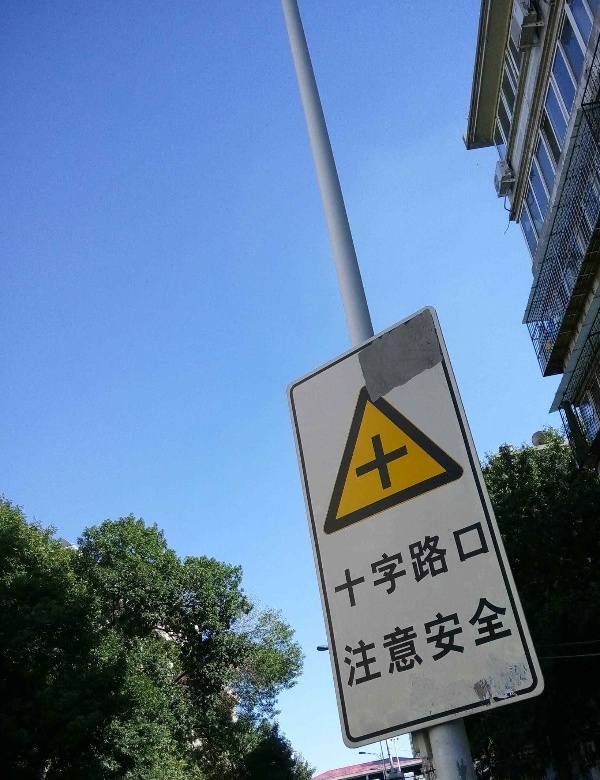text: (337, 513, 352, 614), (353, 513, 368, 614), (369, 513, 384, 614), (385, 513, 400, 614), (401, 513, 416, 614), (417, 513, 432, 614), (433, 513, 448, 614), (449, 513, 464, 614), (465, 513, 480, 614), (481, 513, 496, 614), (337, 591, 352, 688), (353, 591, 368, 688), (369, 591, 384, 688), (385, 591, 400, 688), (401, 591, 416, 688), (417, 591, 432, 688), (433, 591, 448, 688), (449, 591, 464, 688), (465, 591, 480, 688), (481, 591, 496, 688), (497, 591, 512, 688), (331, 513, 336, 614), (513, 591, 517, 688), (333, 591, 336, 688)
